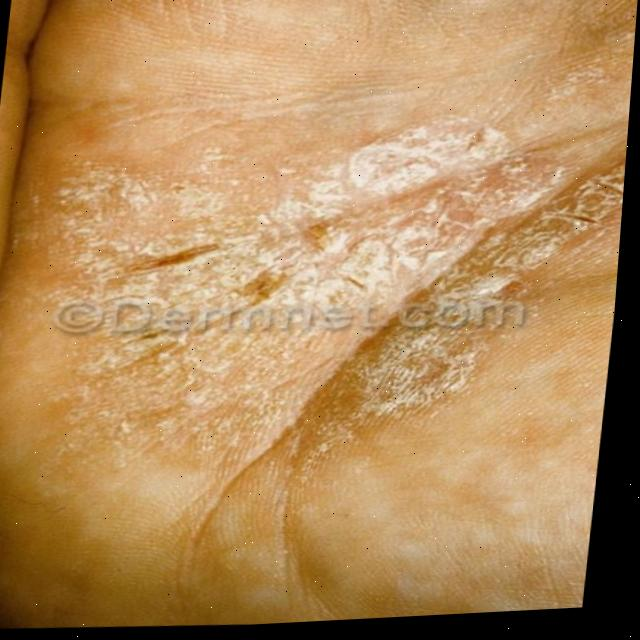Eczema: (15, 134, 592, 454)
